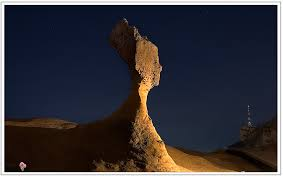yehliu: (102, 16, 175, 89)
